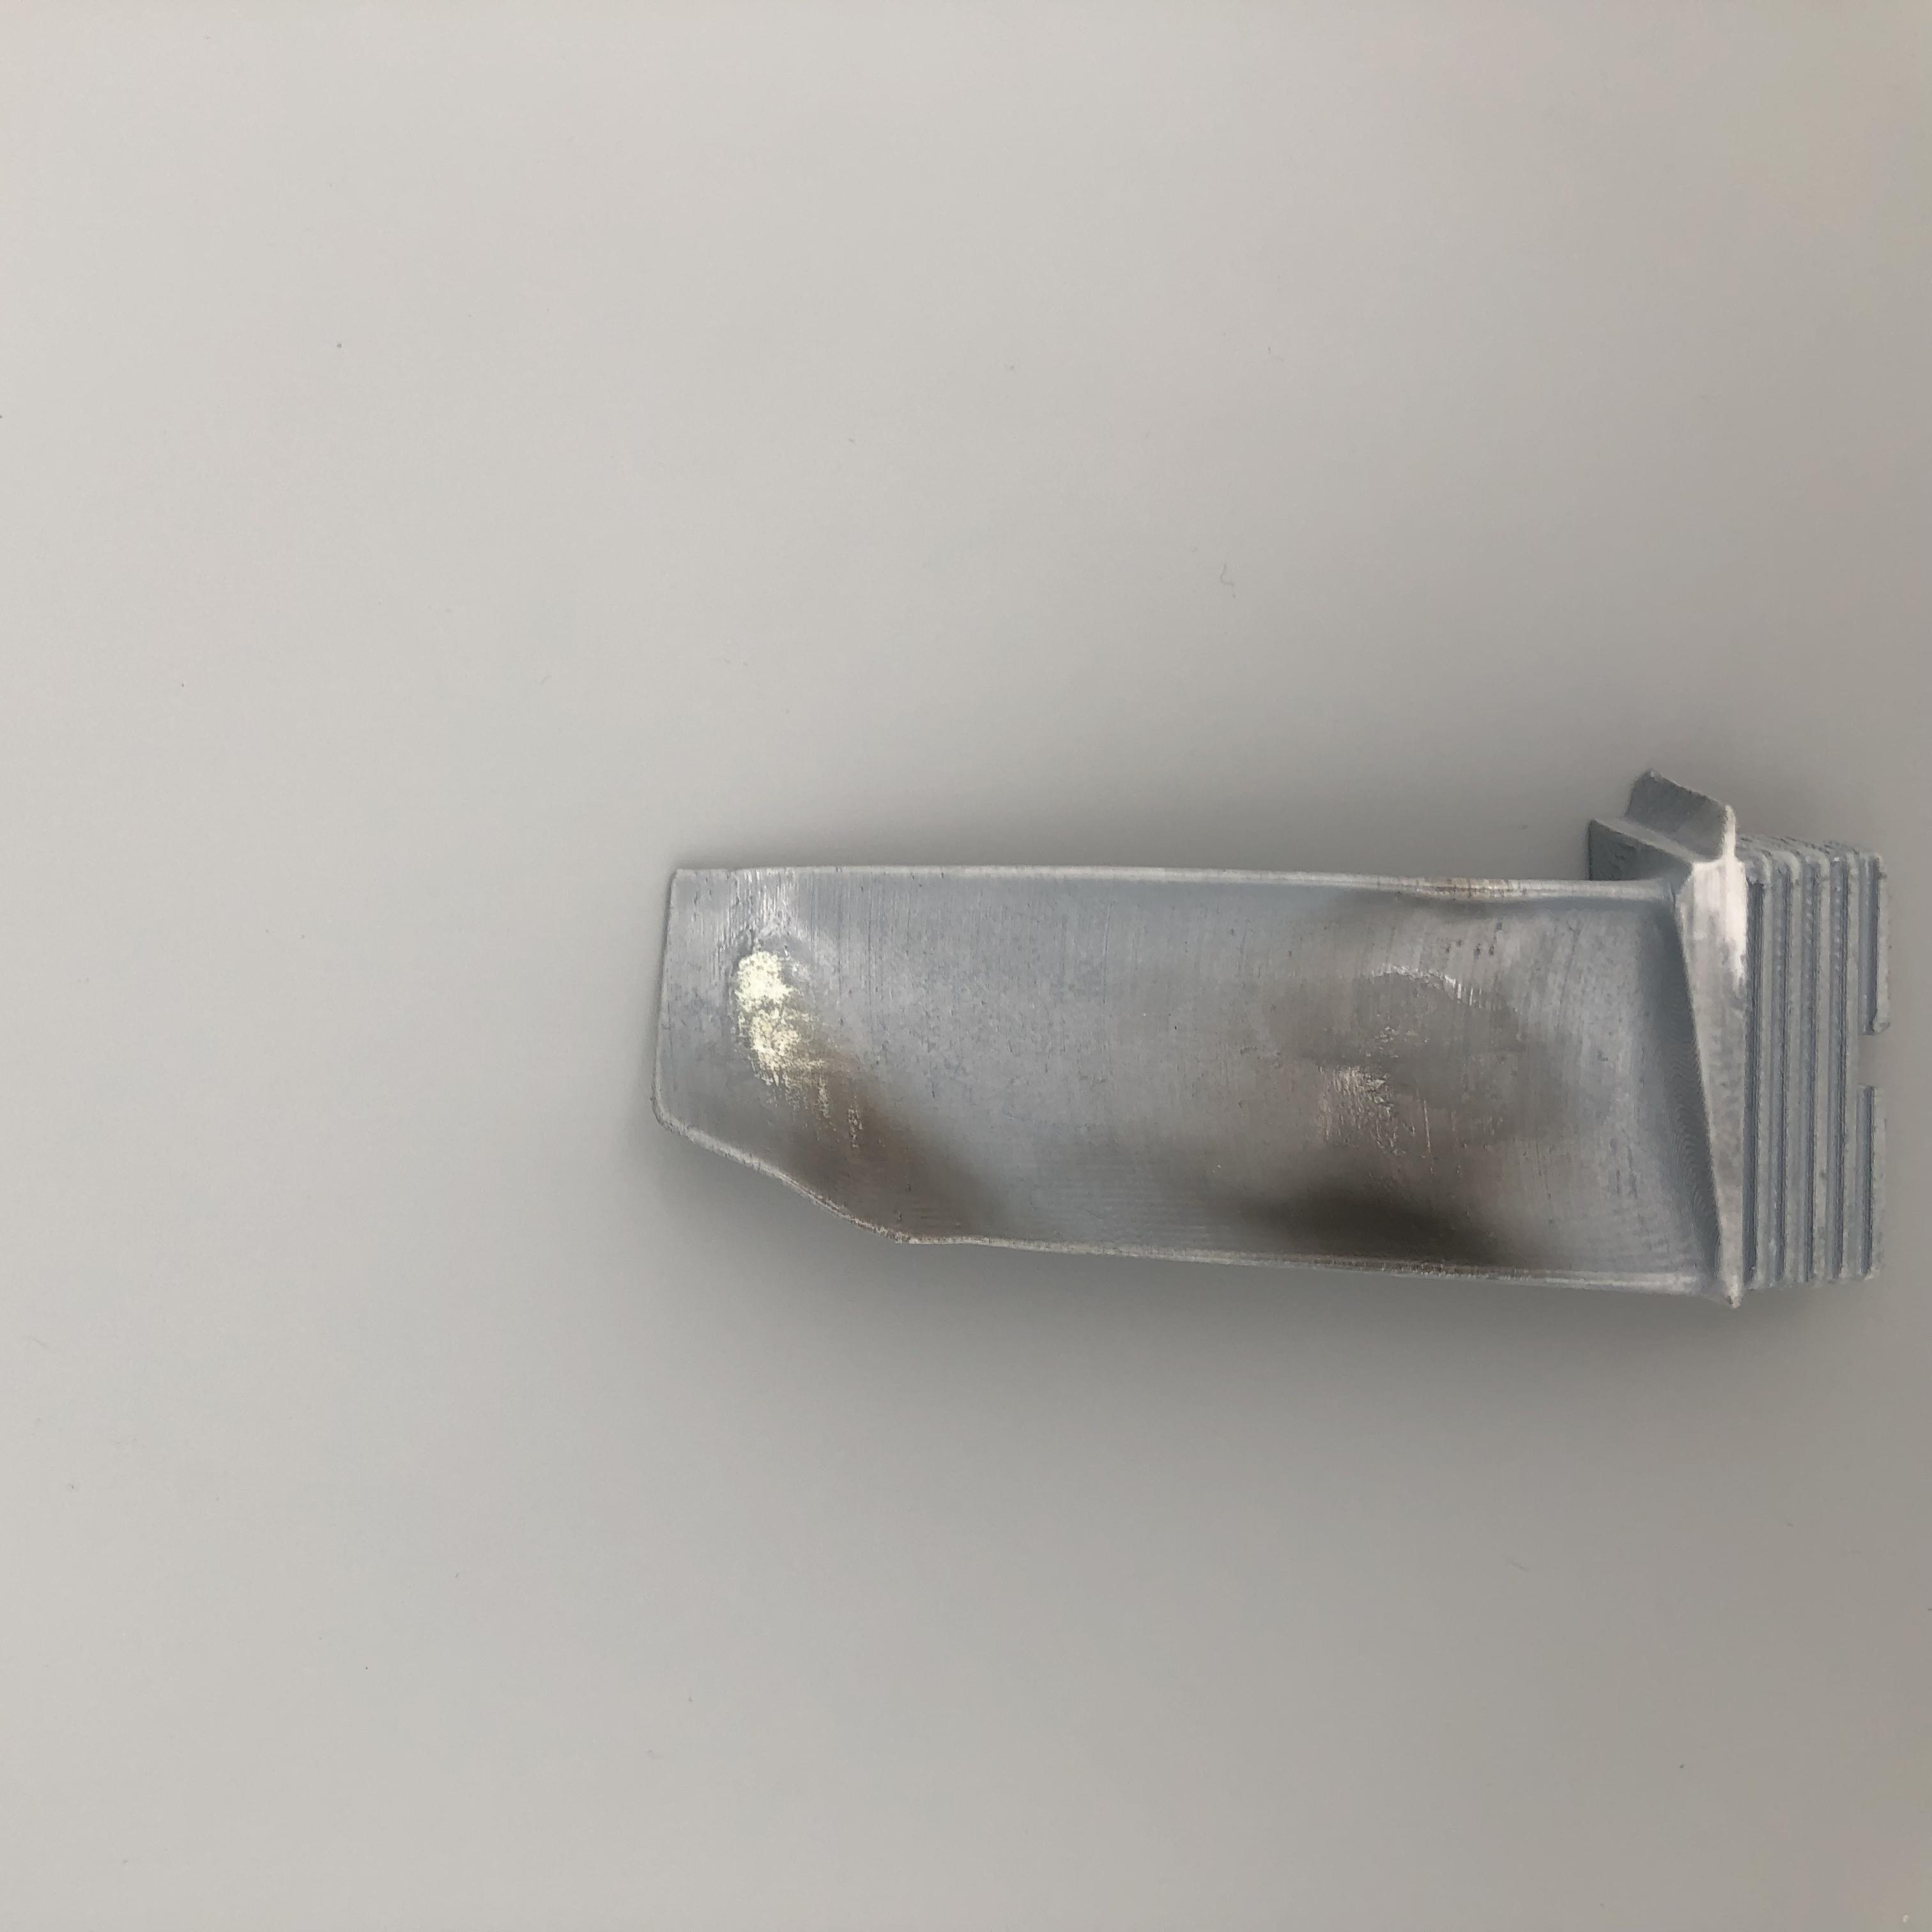ablation: (1313, 936, 1543, 1265), (800, 1056, 1001, 1230)
